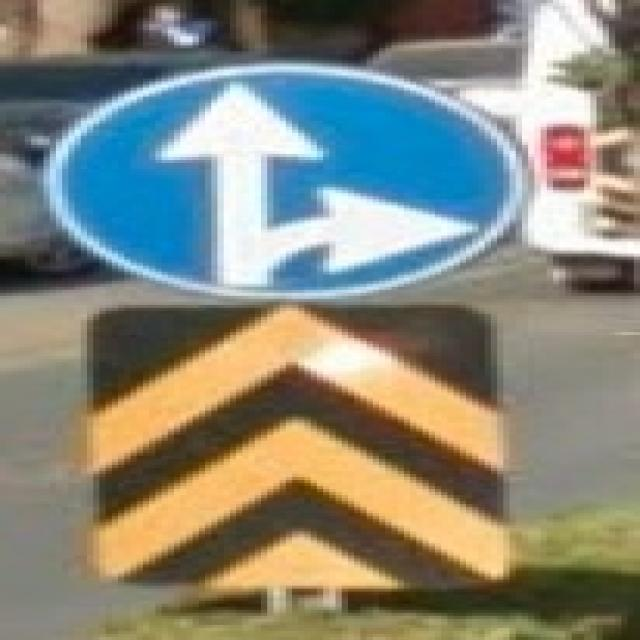Straight or Right: (45, 67, 536, 303)
